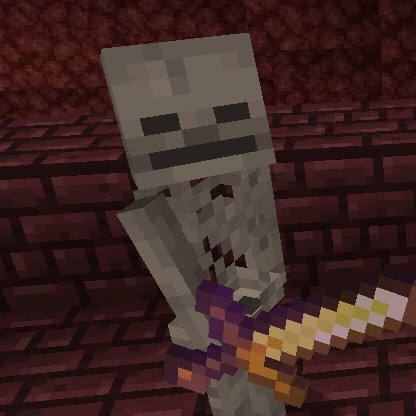skeleton: (90, 32, 291, 273)
